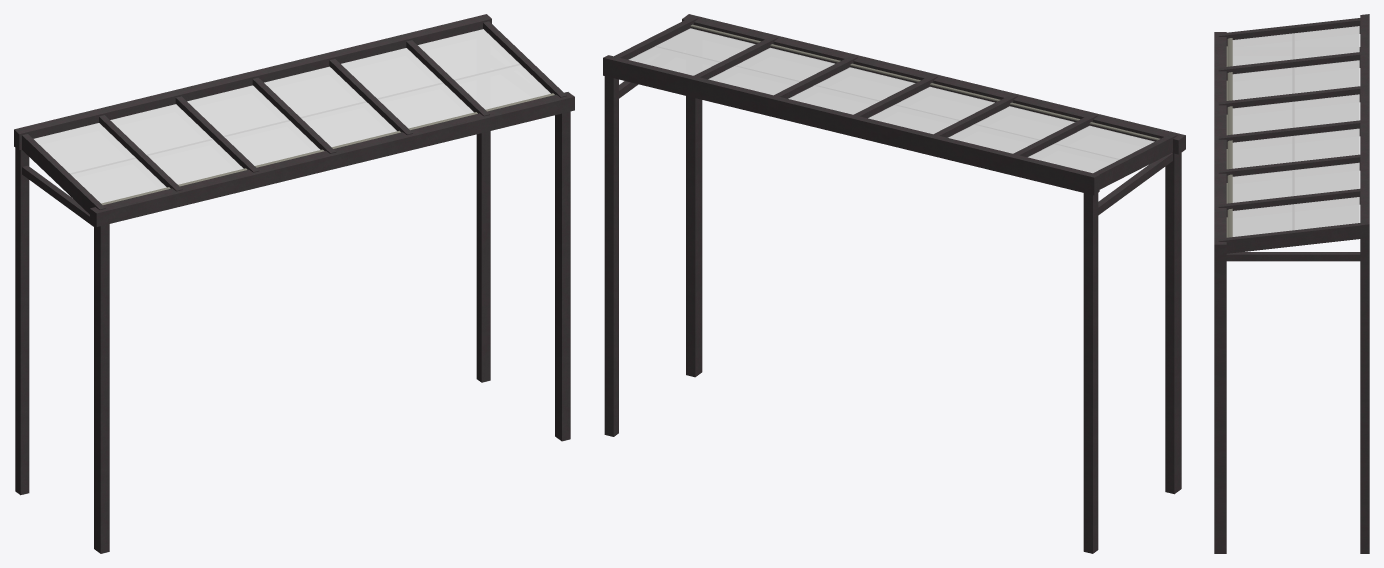
The model's file is sp-dokuritu_2k-4s_kakicha.fbx.
3 renders of one model, left to right at view 1: azimuth 30°, elevation 25°; view 2: azimuth 150°, elevation 25°; view 3: azimuth 270°, elevation 25°, orthographic. The views are drawn at different scales.
Parts seen in each view (by area): view 1: sp-dokuritu_2k-4s_kakicha; view 2: sp-dokuritu_2k-4s_kakicha; view 3: sp-dokuritu_2k-4s_kakicha.
Boxes of the visible parts, x1,y1,x2,y2 form: sp-dokuritu_2k-4s_kakicha: [14, 14, 574, 553]; sp-dokuritu_2k-4s_kakicha: [603, 14, 1185, 553]; sp-dokuritu_2k-4s_kakicha: [1214, 14, 1369, 553].
Size of the model in its own units: 404 by 293 by 125.
Materials: 3 (2 with a texture image).
